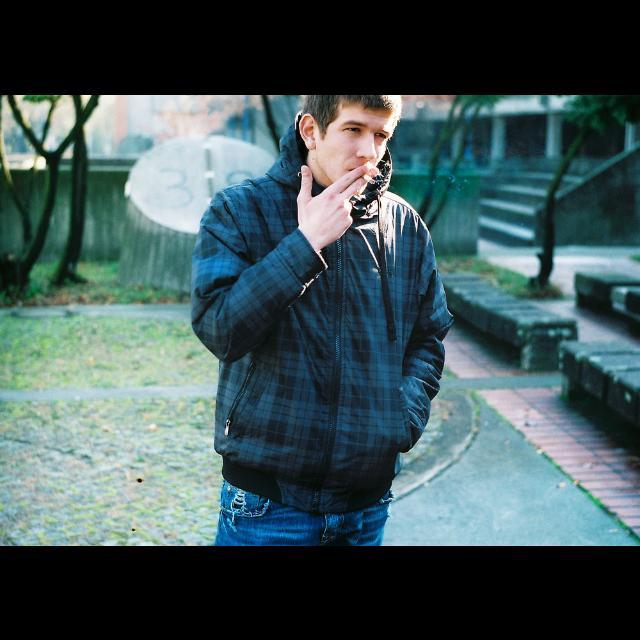rokok: (362, 172, 376, 185)
